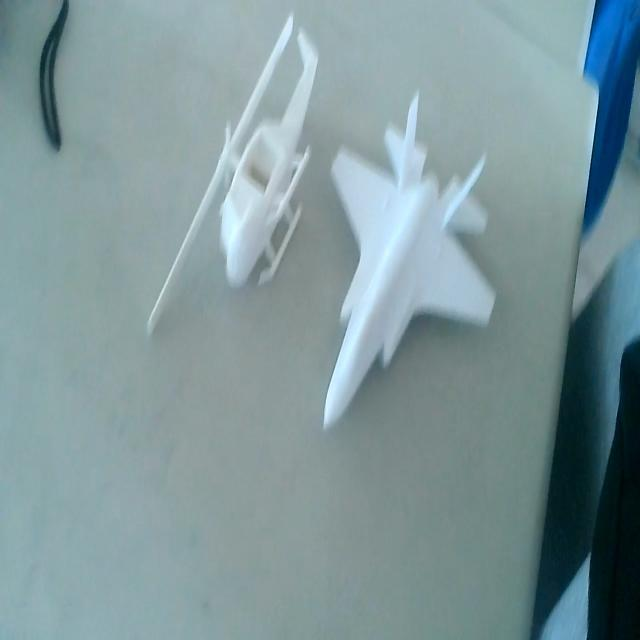Helicopter: (147, 9, 320, 342)
Jet: (320, 91, 496, 428)
